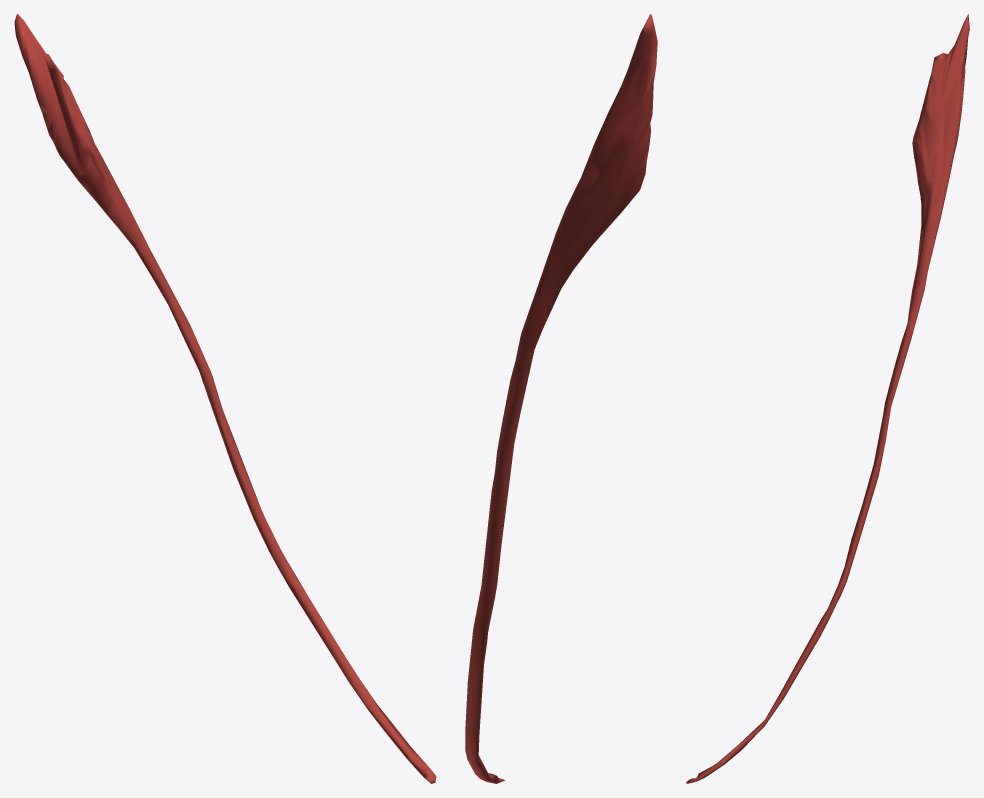
Rendered from musculos-extensor-indicis-l.glb.
3 views of the same model, side by side, from view 1: azimuth 30°, elevation 25°; view 2: azimuth 150°, elevation 25°; view 3: azimuth 270°, elevation 25° (orthographic). The views are drawn at different scales.
Visible parts, largest first — view 1: Extensor indicis.l; view 2: Extensor indicis.l; view 3: Extensor indicis.l.
Boxes of the visible parts, <box> form: Extensor indicis.l: <box>14,14,436,783</box>; Extensor indicis.l: <box>465,14,657,783</box>; Extensor indicis.l: <box>686,14,969,783</box>.
Bounding box in the file's own units: 0.0807 × 0.206 × 0.0811.
